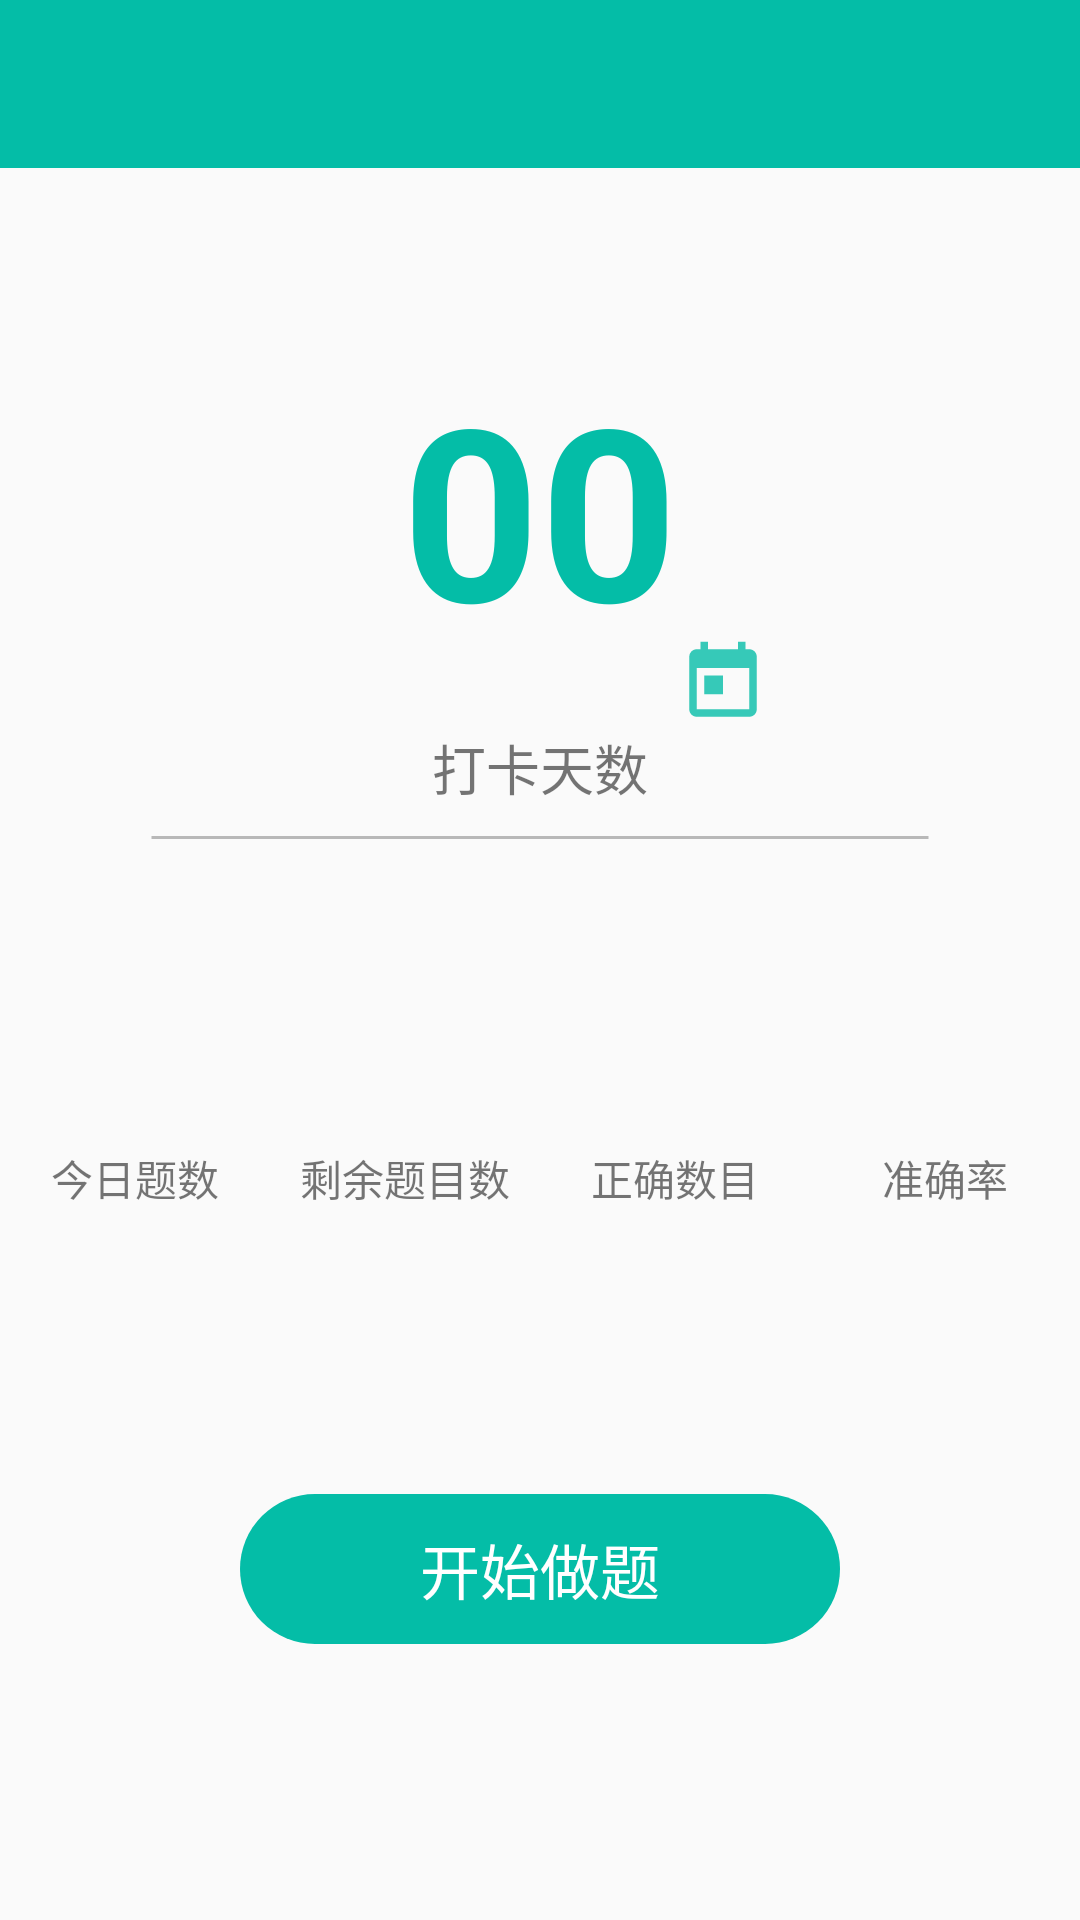

Icon bounding boxes for this 1080px×1920px phone screenshot, format BBox(x1, y1, x2, y2):
calendar: BBox(689, 641, 757, 717)
